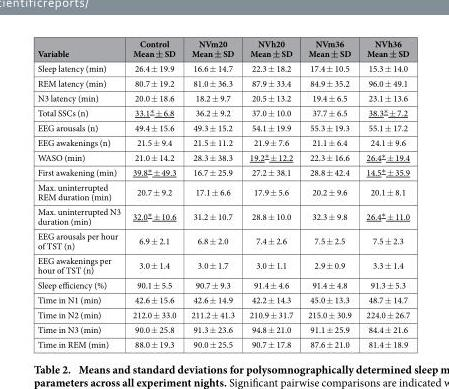table: (36, 37, 409, 350)
table column: (36, 37, 125, 350), (299, 37, 358, 350), (125, 37, 183, 350), (183, 37, 241, 350), (241, 37, 299, 350), (358, 37, 409, 350)
table column header: (36, 37, 409, 60)
table row: (36, 203, 409, 228), (36, 252, 409, 277), (36, 179, 409, 203), (36, 228, 409, 252), (36, 37, 409, 60), (36, 163, 409, 179), (36, 60, 409, 75), (36, 75, 409, 90), (36, 104, 409, 119), (36, 119, 409, 134), (36, 148, 409, 163), (36, 277, 409, 292), (36, 306, 409, 321), (36, 321, 409, 336), (36, 90, 409, 104), (36, 134, 409, 148), (36, 292, 409, 306), (36, 336, 409, 350)
